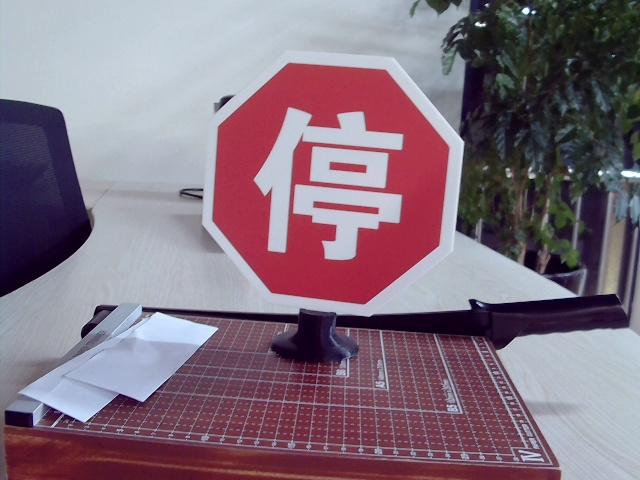stop: (253, 100, 404, 265)
